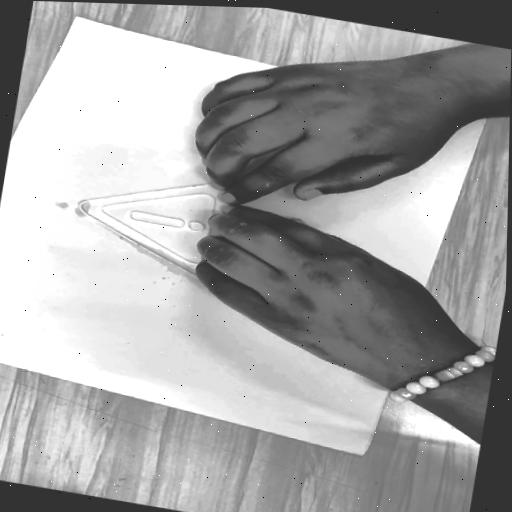bottom_left: (481, 102, 501, 115)
bottom_right: (352, 450, 371, 461)
signboard: (57, 137, 350, 320)
top_left: (69, 12, 88, 22)
